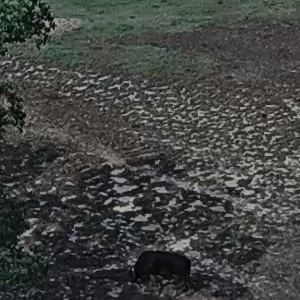cow: (109, 225, 221, 293)
